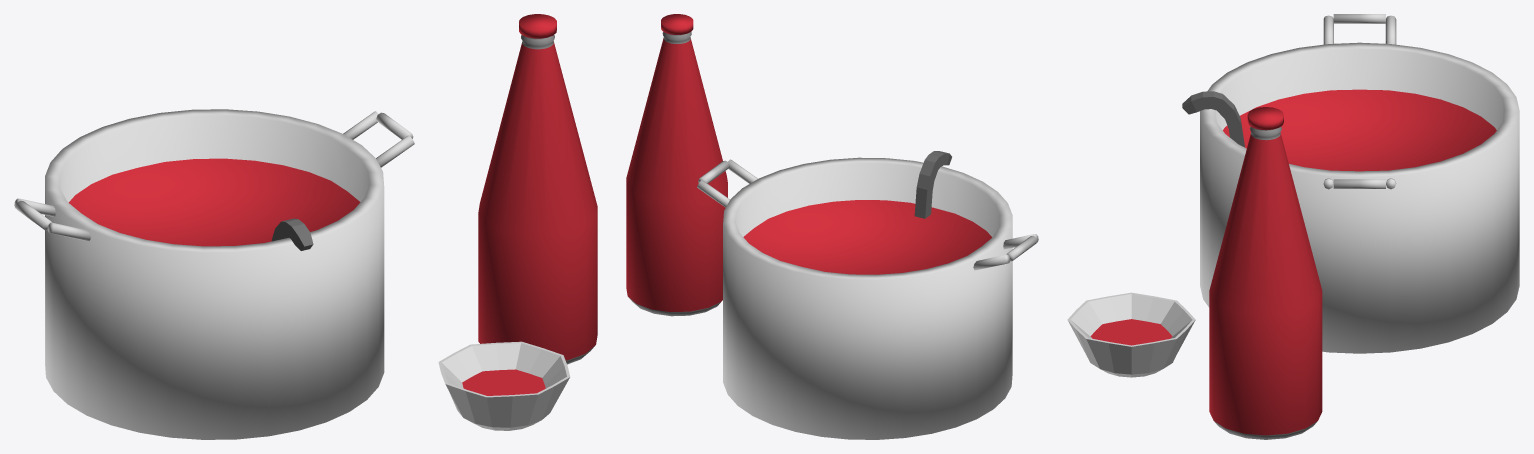
Rendered from SauceTable.fbx.
3 views of the same model, side by side, from view 1: azimuth 30°, elevation 25°; view 2: azimuth 150°, elevation 25°; view 3: azimuth 270°, elevation 25° (orthographic). The views are drawn at different scales.
Visible parts, largest first — view 1: SauceTable; view 2: SauceTable; view 3: SauceTable.
Part boxes in pixels (x1=…): SauceTable: x1=14, y1=14, x2=597, y2=439; SauceTable: x1=626, y1=14, x2=1038, y2=439; SauceTable: x1=1067, y1=14, x2=1519, y2=439.
Size of the model in its own units: 165 by 99.88 by 135.
